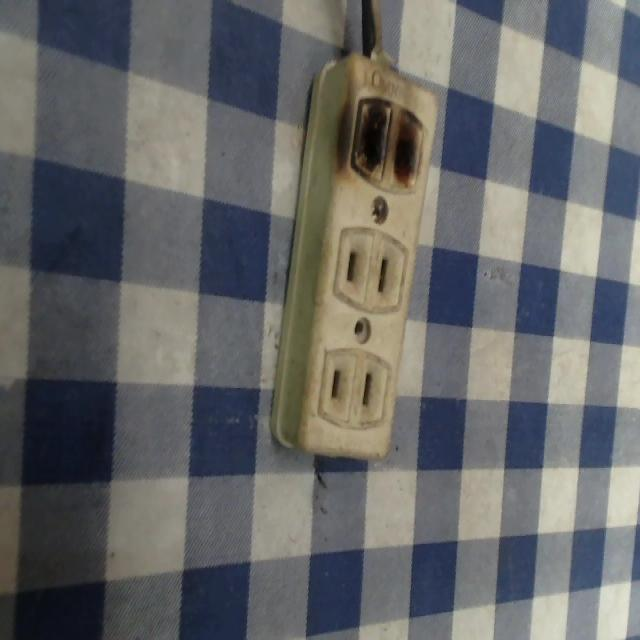-: (336, 88, 434, 193)
